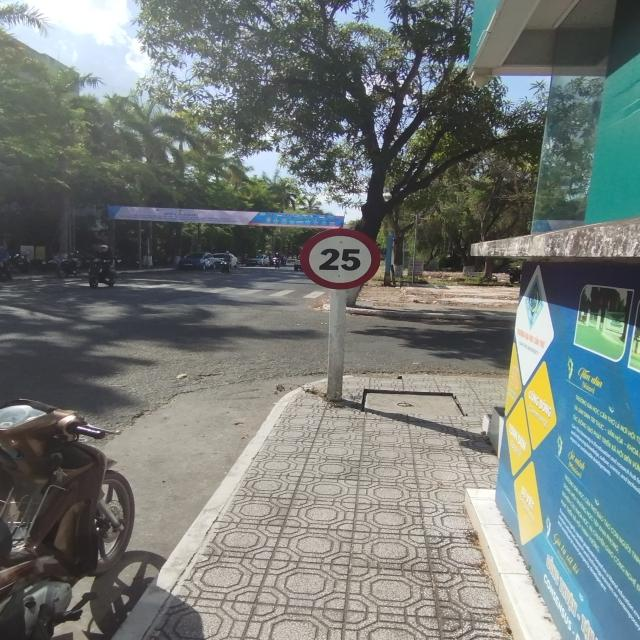Tre_Em: (299, 228, 382, 291)
